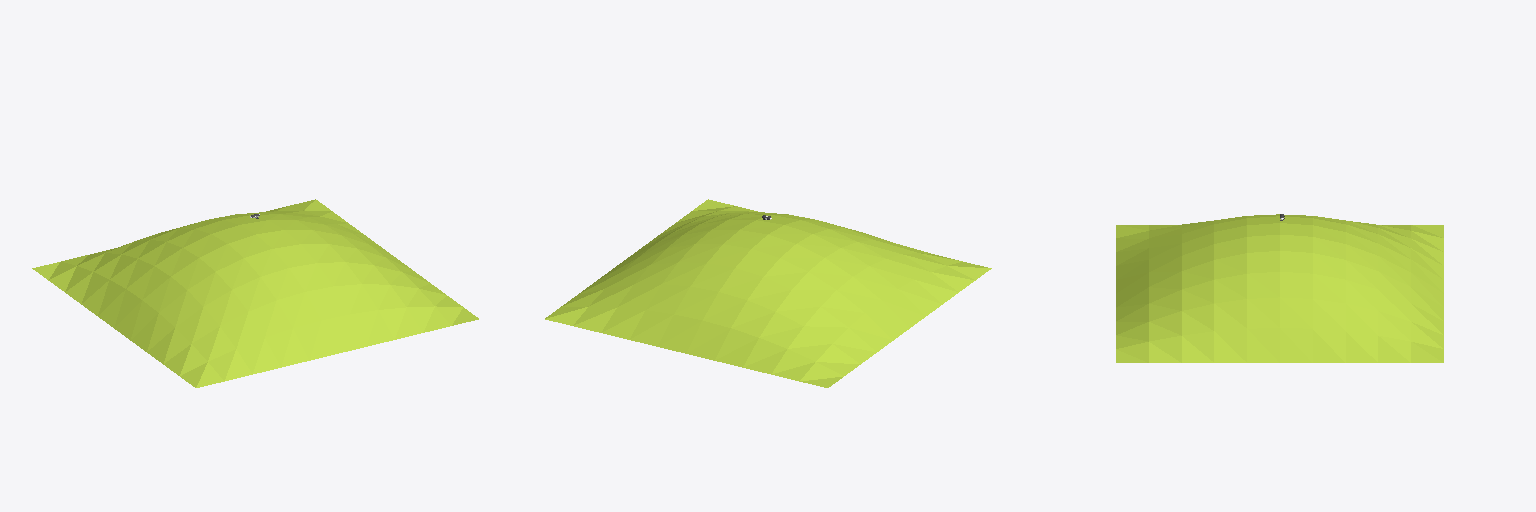
File: world_2015-12-26.obj
3 views of the same model, side by side, from view 1: azimuth 30°, elevation 25°; view 2: azimuth 150°, elevation 25°; view 3: azimuth 270°, elevation 25° (orthographic).
Parts seen in each view (by area): view 1: CLOUD; view 2: CLOUD; view 3: CLOUD.
Part boxes in pixels (bbox=[...]): CLOUD: bbox=[32, 199, 478, 387]; CLOUD: bbox=[545, 199, 991, 387]; CLOUD: bbox=[1116, 214, 1443, 362].
Bounding box in the file's own units: 20000 × 5499 × 20000.